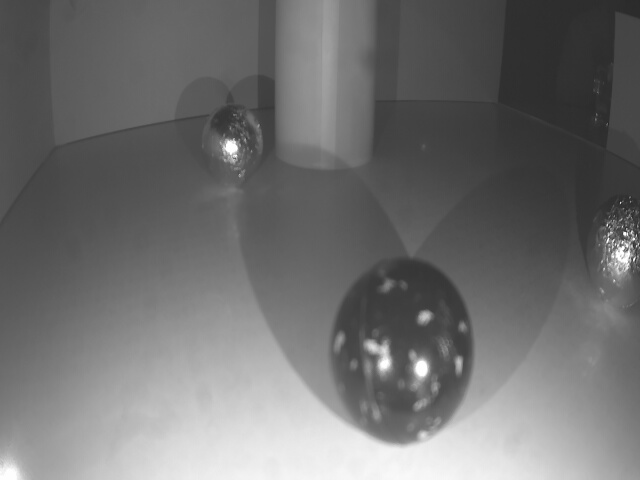Dead: (331, 252, 473, 444)
Live: (588, 194, 640, 309), (199, 105, 268, 187)
